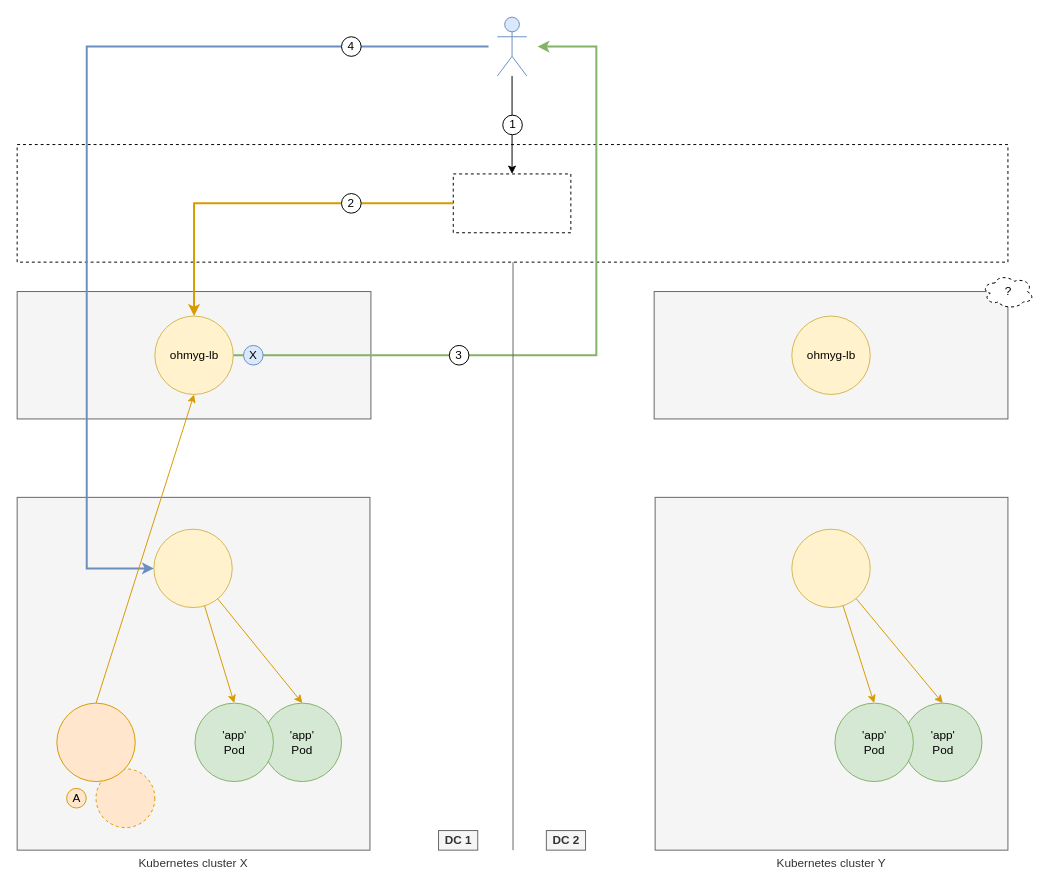
Some shapes in this 1052 by 888 pixel diagram are drawn without their labels. Here are the shapes that lost their labels. From the top down, the centre of each, then its label:
At pixel 511 203: "DNS Recursive Resolver".
At pixel 192 568: "Ingress Contrioller X".
At pixel 830 568: "Ingress Contrioller Y".
At pixel 95 742: "'app' Glsb".
At pixel 125 798: "'app-gslb' Ingress".
